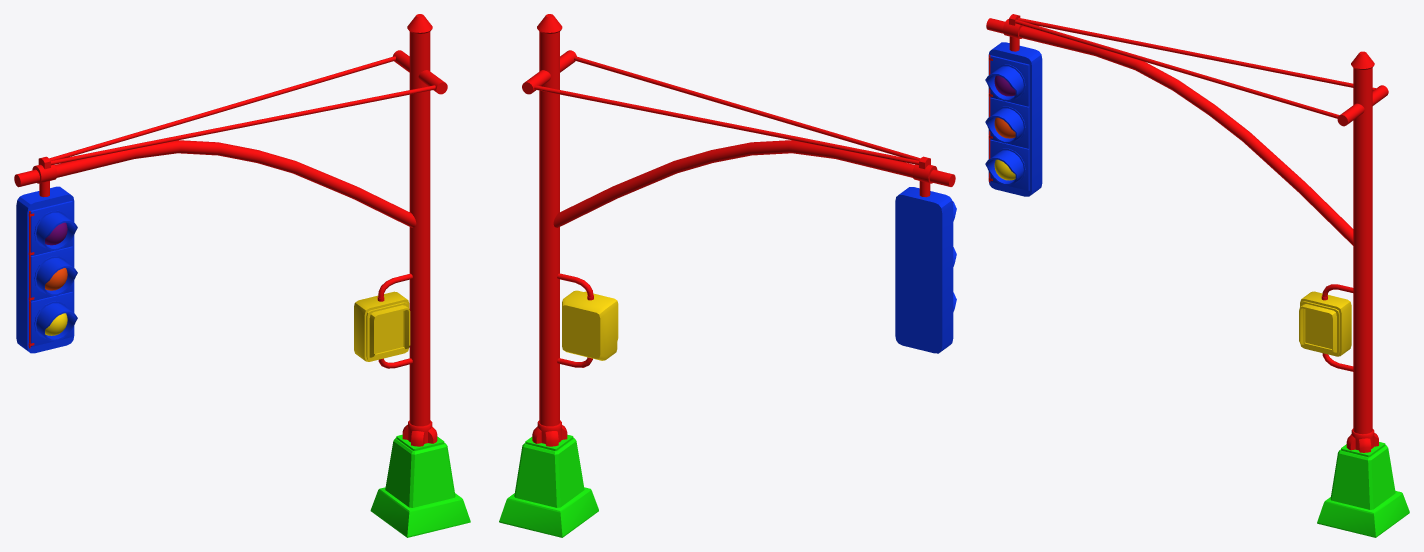
Rendered from ART-MOD-A-TRAFFICLIGHT-001.FBX.
The picture shows the model from 3 angles, left to right: view 1: azimuth 30°, elevation 25°; view 2: azimuth 150°, elevation 25°; view 3: azimuth 330°, elevation 25°; orthographic projection. The views are drawn at different scales.
Visible parts, largest first — view 1: ART-MOD-A-TRAFFICLIGHT-001; view 2: ART-MOD-A-TRAFFICLIGHT-001; view 3: ART-MOD-A-TRAFFICLIGHT-001.
Part boxes in pixels (x1,y1,x2,y2): ART-MOD-A-TRAFFICLIGHT-001: (14, 14, 470, 537); ART-MOD-A-TRAFFICLIGHT-001: (499, 14, 956, 537); ART-MOD-A-TRAFFICLIGHT-001: (985, 14, 1409, 537).
Bounding box in the file's own units: 362 × 400 × 63.1.
